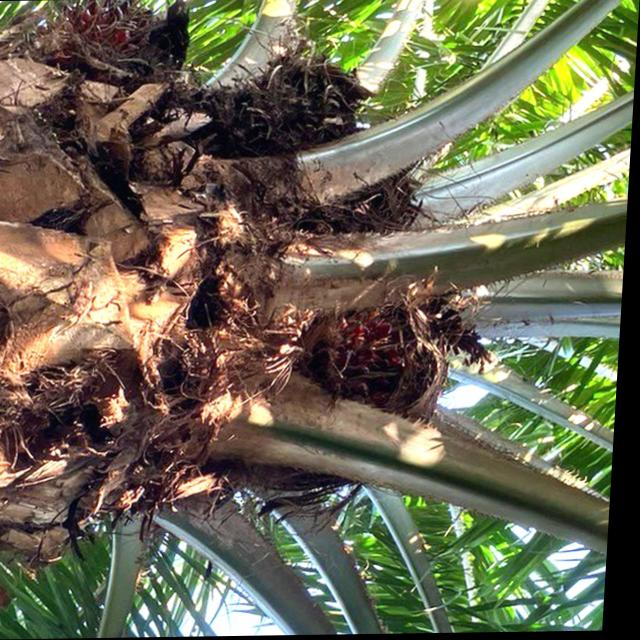ripe: (296, 296, 474, 442)
